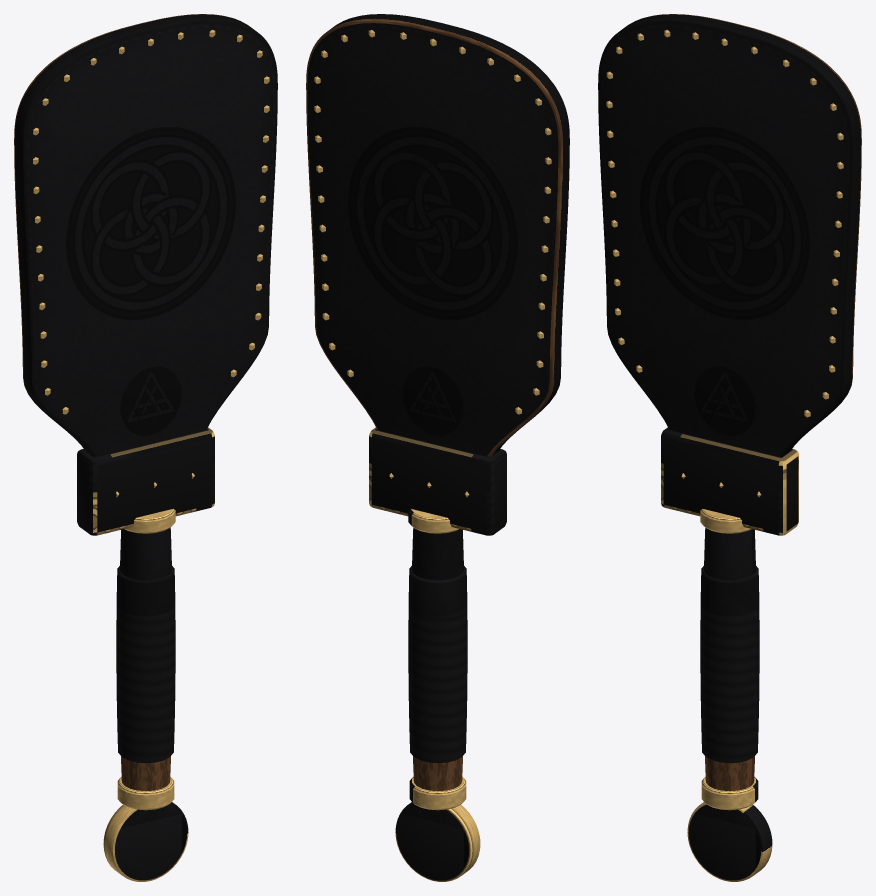
Rendered from Paddle.fbx.
The picture shows the model from 3 angles, left to right: view 1: azimuth 30°, elevation 25°; view 2: azimuth 150°, elevation 25°; view 3: azimuth 330°, elevation 25°; orthographic projection.
Visible parts, largest first — view 1: Paddle; view 2: Paddle; view 3: Paddle.
Boxes of the visible parts, box(x1,y1,x2,y2) form: Paddle: box(14, 14, 277, 881); Paddle: box(306, 14, 569, 881); Paddle: box(598, 14, 861, 881).
Size of the model in its own units: 0.176 by 0.56 by 0.0355.
